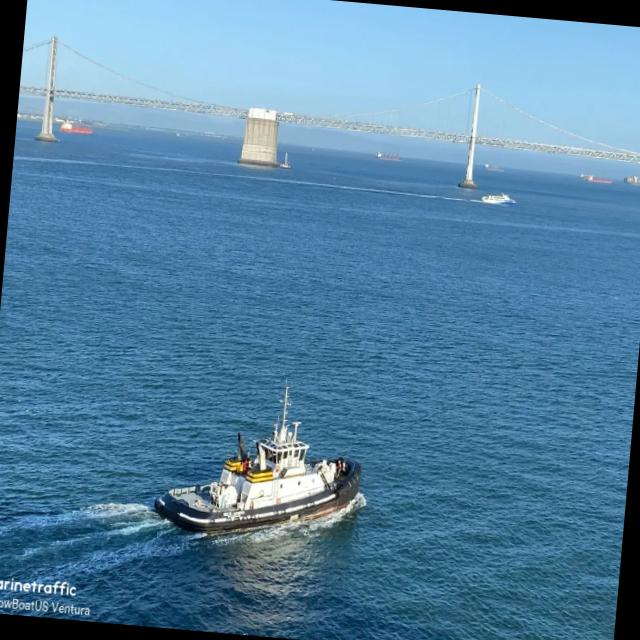Tug: (153, 384, 361, 533)
